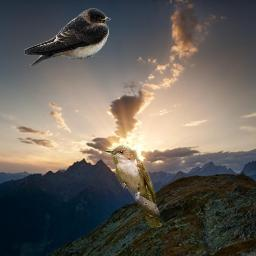Cuckoo: (104, 145, 162, 228)
Swallow: (24, 8, 111, 67)
